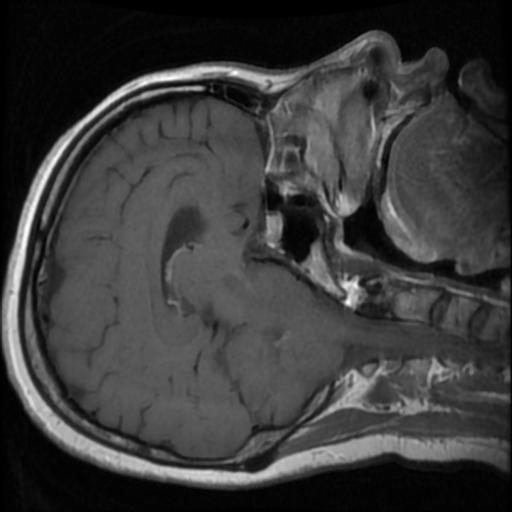pituitary tumour: (261, 211, 284, 248)
